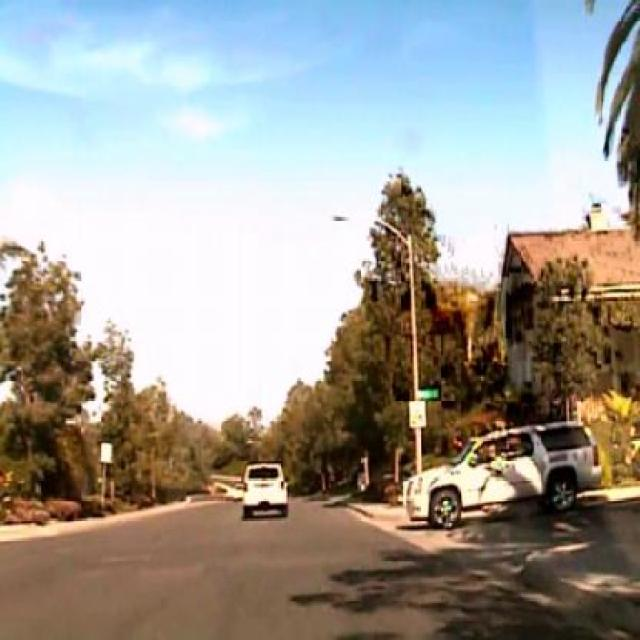speedLimitUrdbl: (408, 398, 426, 428)
